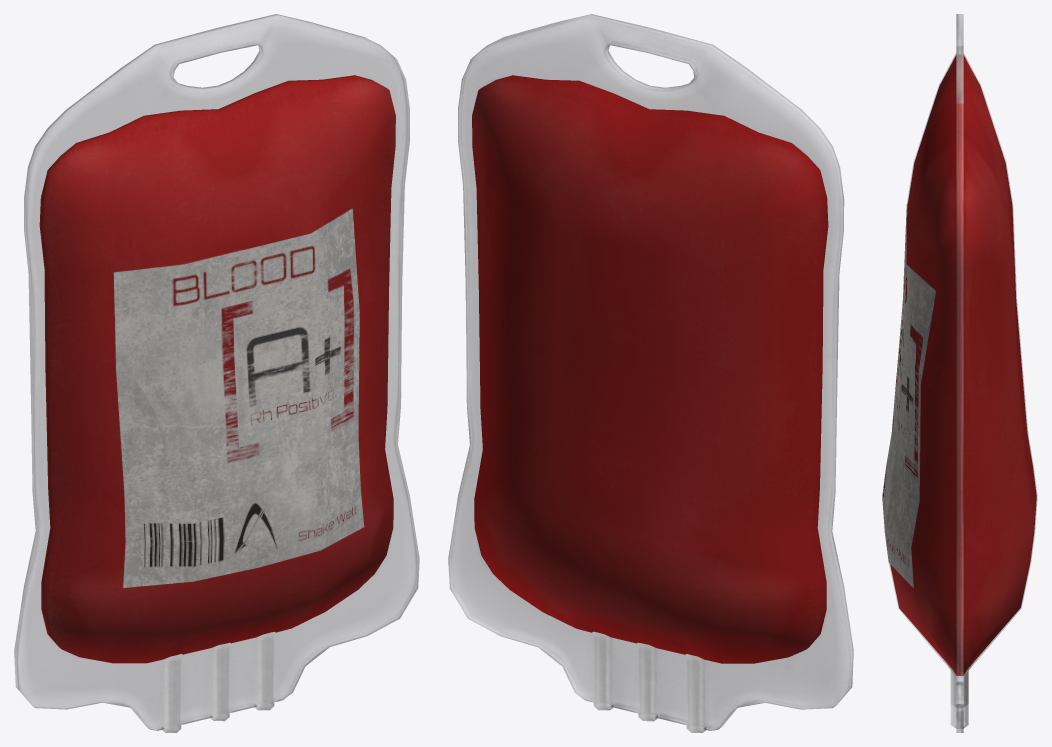
File: BloodBag.FBX
3 renders of one model, left to right at view 1: azimuth 30°, elevation 25°; view 2: azimuth 150°, elevation 25°; view 3: azimuth 270°, elevation 25°, orthographic. The views are drawn at different scales.
Visible parts, largest first — view 1: Blood, Bag; view 2: Bag, Blood; view 3: Blood, Bag.
Boxes of the visible parts, x1,y1,x2,y2 form: Blood: (39,75,395,663); Bag: (14,14,419,732); Bag: (448,14,853,732); Blood: (472,75,828,663); Blood: (882,54,1036,675); Bag: (889,14,1037,732).
Bounding box in the file's own units: 21.09 × 34.54 × 7.37.
Materials: 2 (2 with a texture image).
